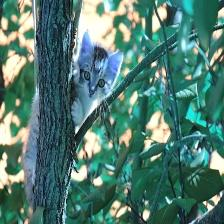kedo: (71, 31, 124, 121)
